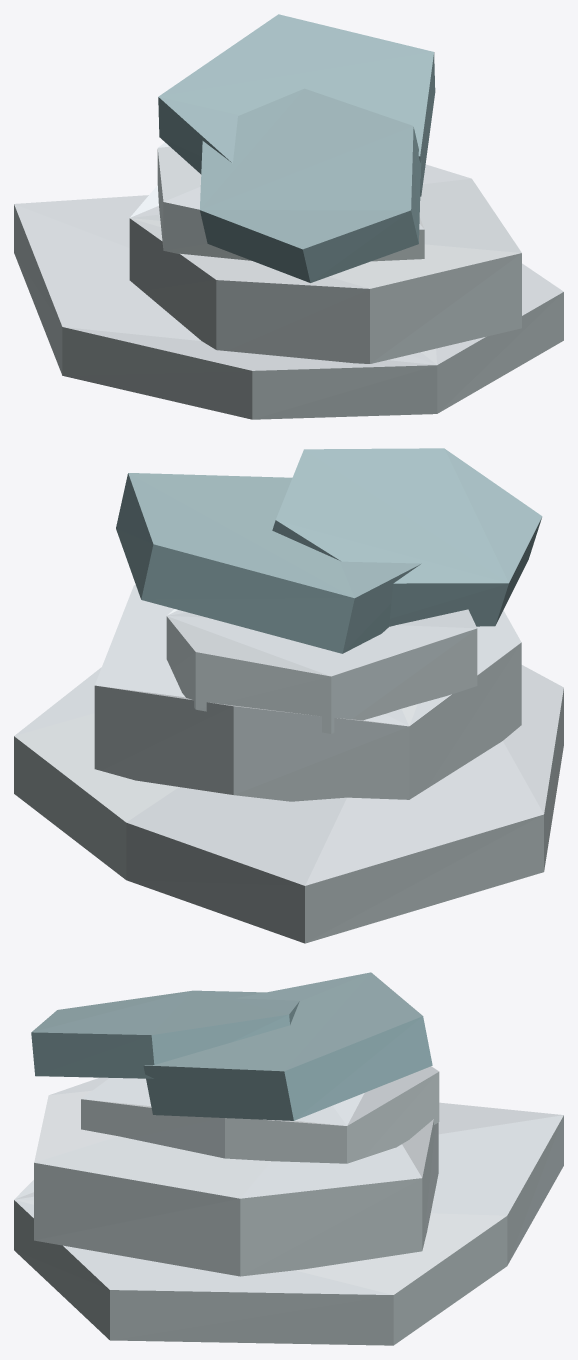
File: rock.floe__buried__winter.glb
The picture shows the model from 3 angles, top to bottom: view 1: azimuth 30°, elevation 25°; view 2: azimuth 150°, elevation 25°; view 3: azimuth 270°, elevation 25°; orthographic projection. The views are drawn at different scales.
Parts seen in each view (by area): view 1: rock.floe; view 2: rock.floe; view 3: rock.floe.
Part boxes in pixels (bbox=[...]): rock.floe: bbox=[14, 14, 563, 419]; rock.floe: bbox=[14, 448, 563, 943]; rock.floe: bbox=[14, 972, 563, 1345].
Size of the model in its own units: 1.77 by 1.05 by 2.
